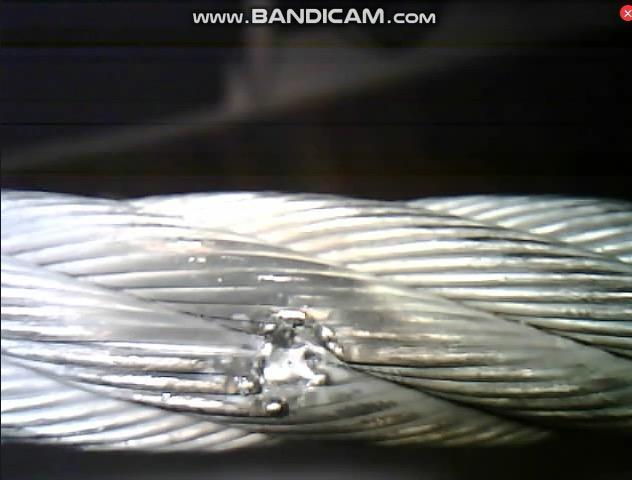thunderbolt: (209, 279, 380, 436)
